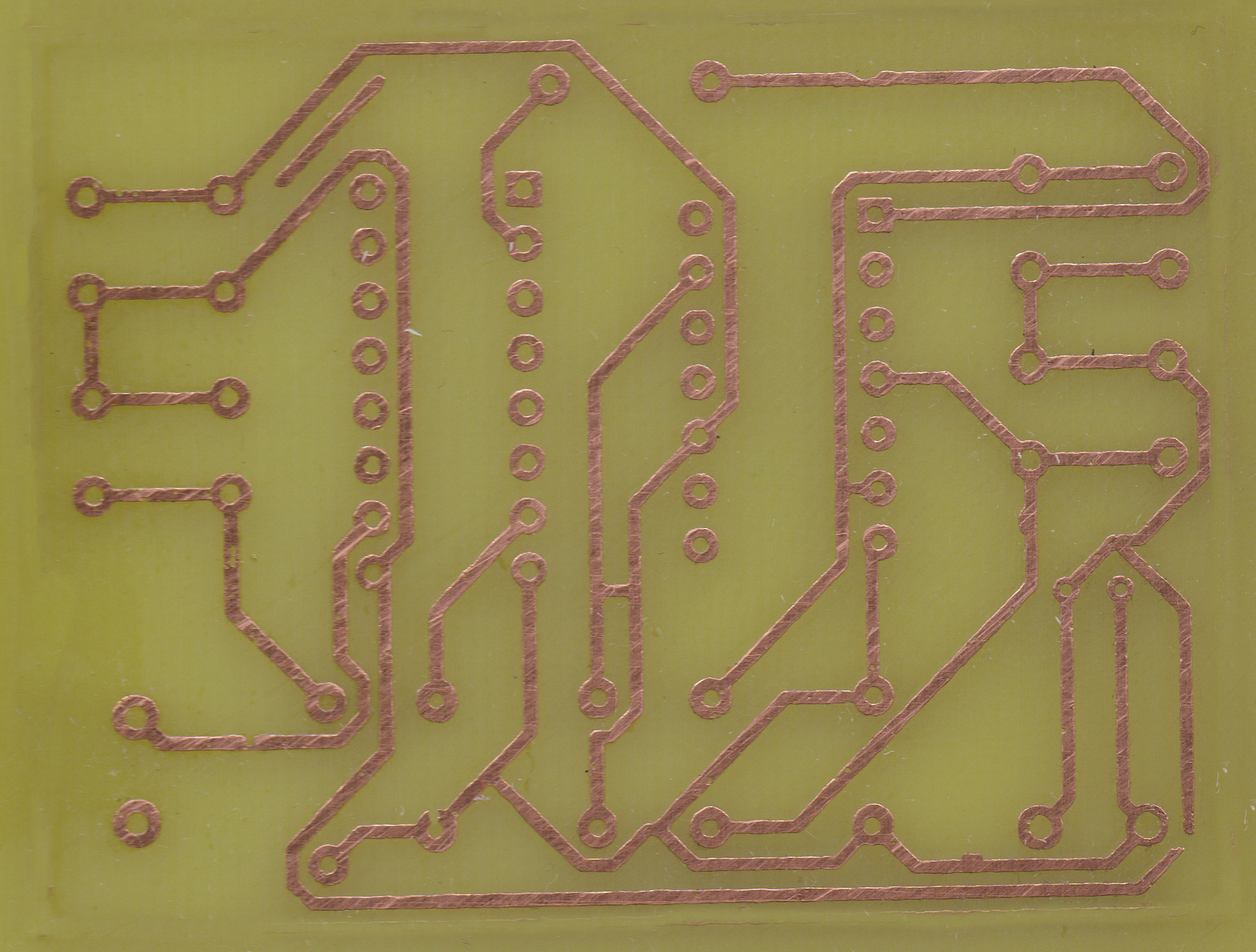missing_hole: (413, 807, 460, 857)
mouse_bite: (840, 63, 892, 95), (237, 730, 265, 755), (112, 189, 126, 198)
open_circuit: (1169, 823, 1202, 859)
short: (588, 572, 644, 605)
spur: (958, 846, 988, 879), (1016, 502, 1041, 539)
spurious_copper: (270, 73, 391, 192)
